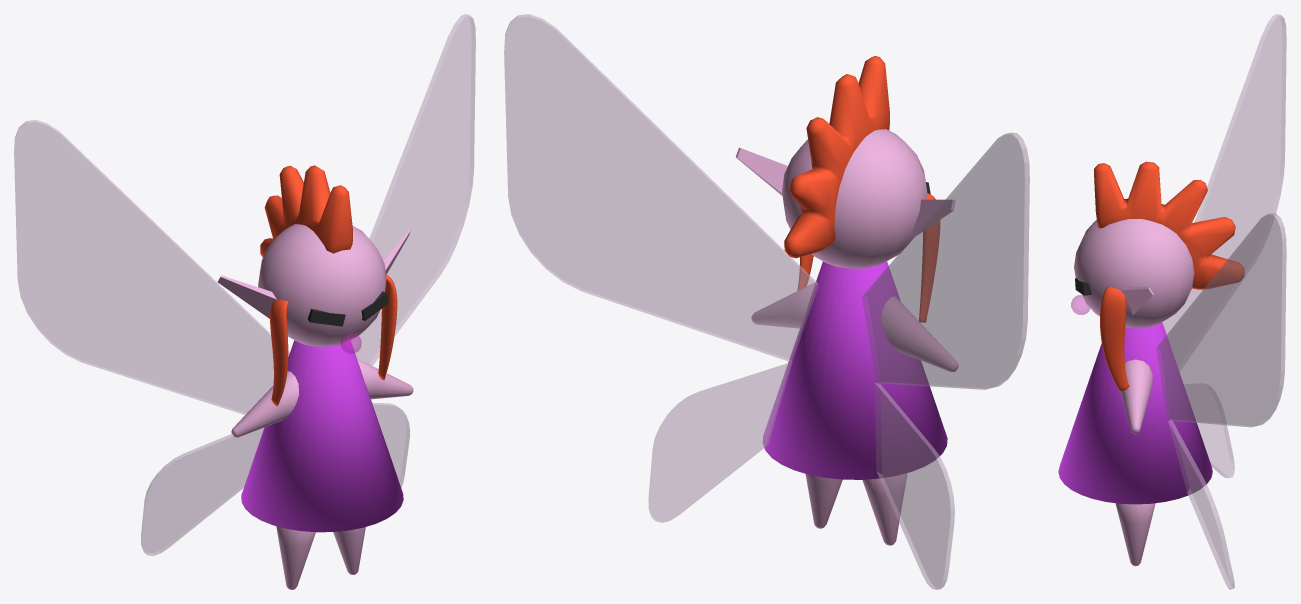
Rendered from fairyAnger.fbx.
3 renders of one model, left to right at view 1: azimuth 30°, elevation 25°; view 2: azimuth 150°, elevation 25°; view 3: azimuth 270°, elevation 25°, orthographic. The views are drawn at different scales.
Parts seen in each view (by area): view 1: Fairy - Anger; view 2: Fairy - Anger; view 3: Fairy - Anger.
Boxes of the visible parts, x1,y1,x2,y2 form: Fairy - Anger: (14,14,475,589); Fairy - Anger: (504,14,1029,589); Fairy - Anger: (1058,14,1286,589).
Bounding box in the file's own units: 45.34 × 20.45 × 43.02.
